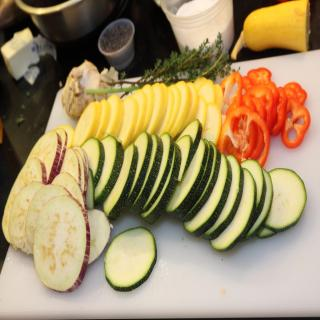Cucumber: (82, 119, 307, 292), (100, 223, 156, 294)
